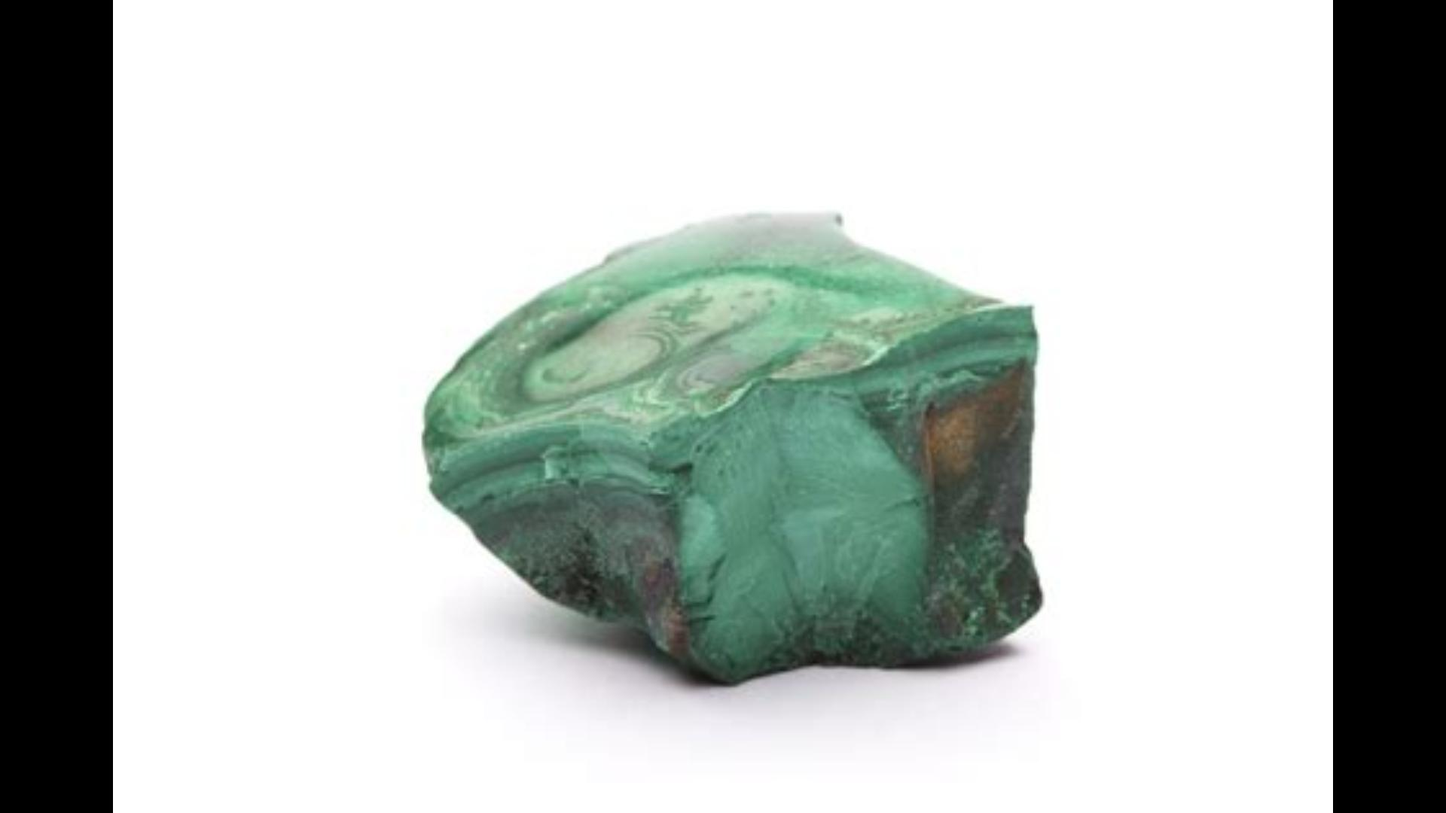rock: (427, 214, 1037, 677)
